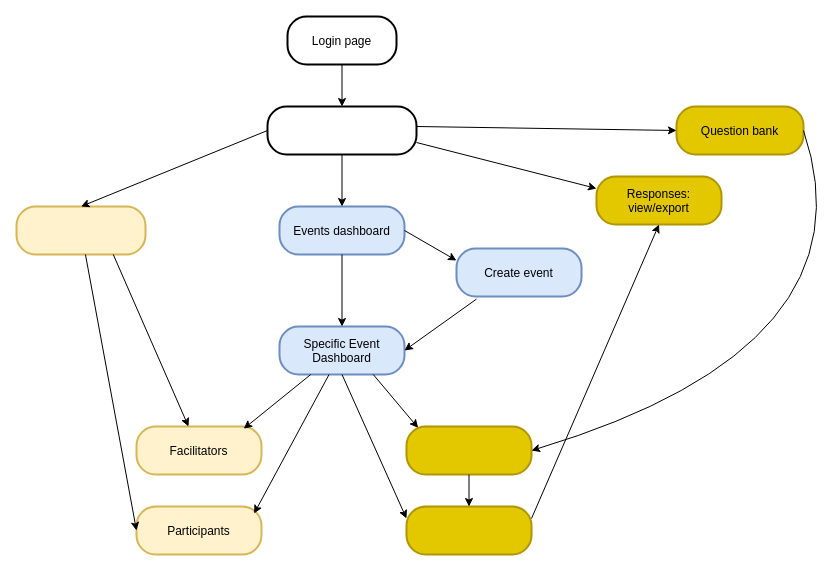
Image size: 833x571. Some labels were removed from this diagram. Here are the shapes that lost their labels. From the top down, the box of each, then its label:
(266, 105, 417, 155): Organization Dashboard
(15, 205, 146, 255): People
(405, 425, 532, 475): Questions
(405, 505, 532, 555): Responses
